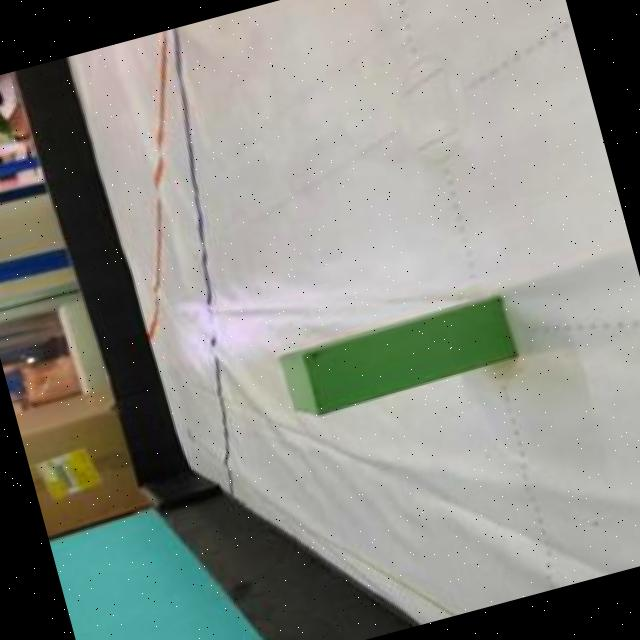greenbox: (272, 294, 523, 422)
